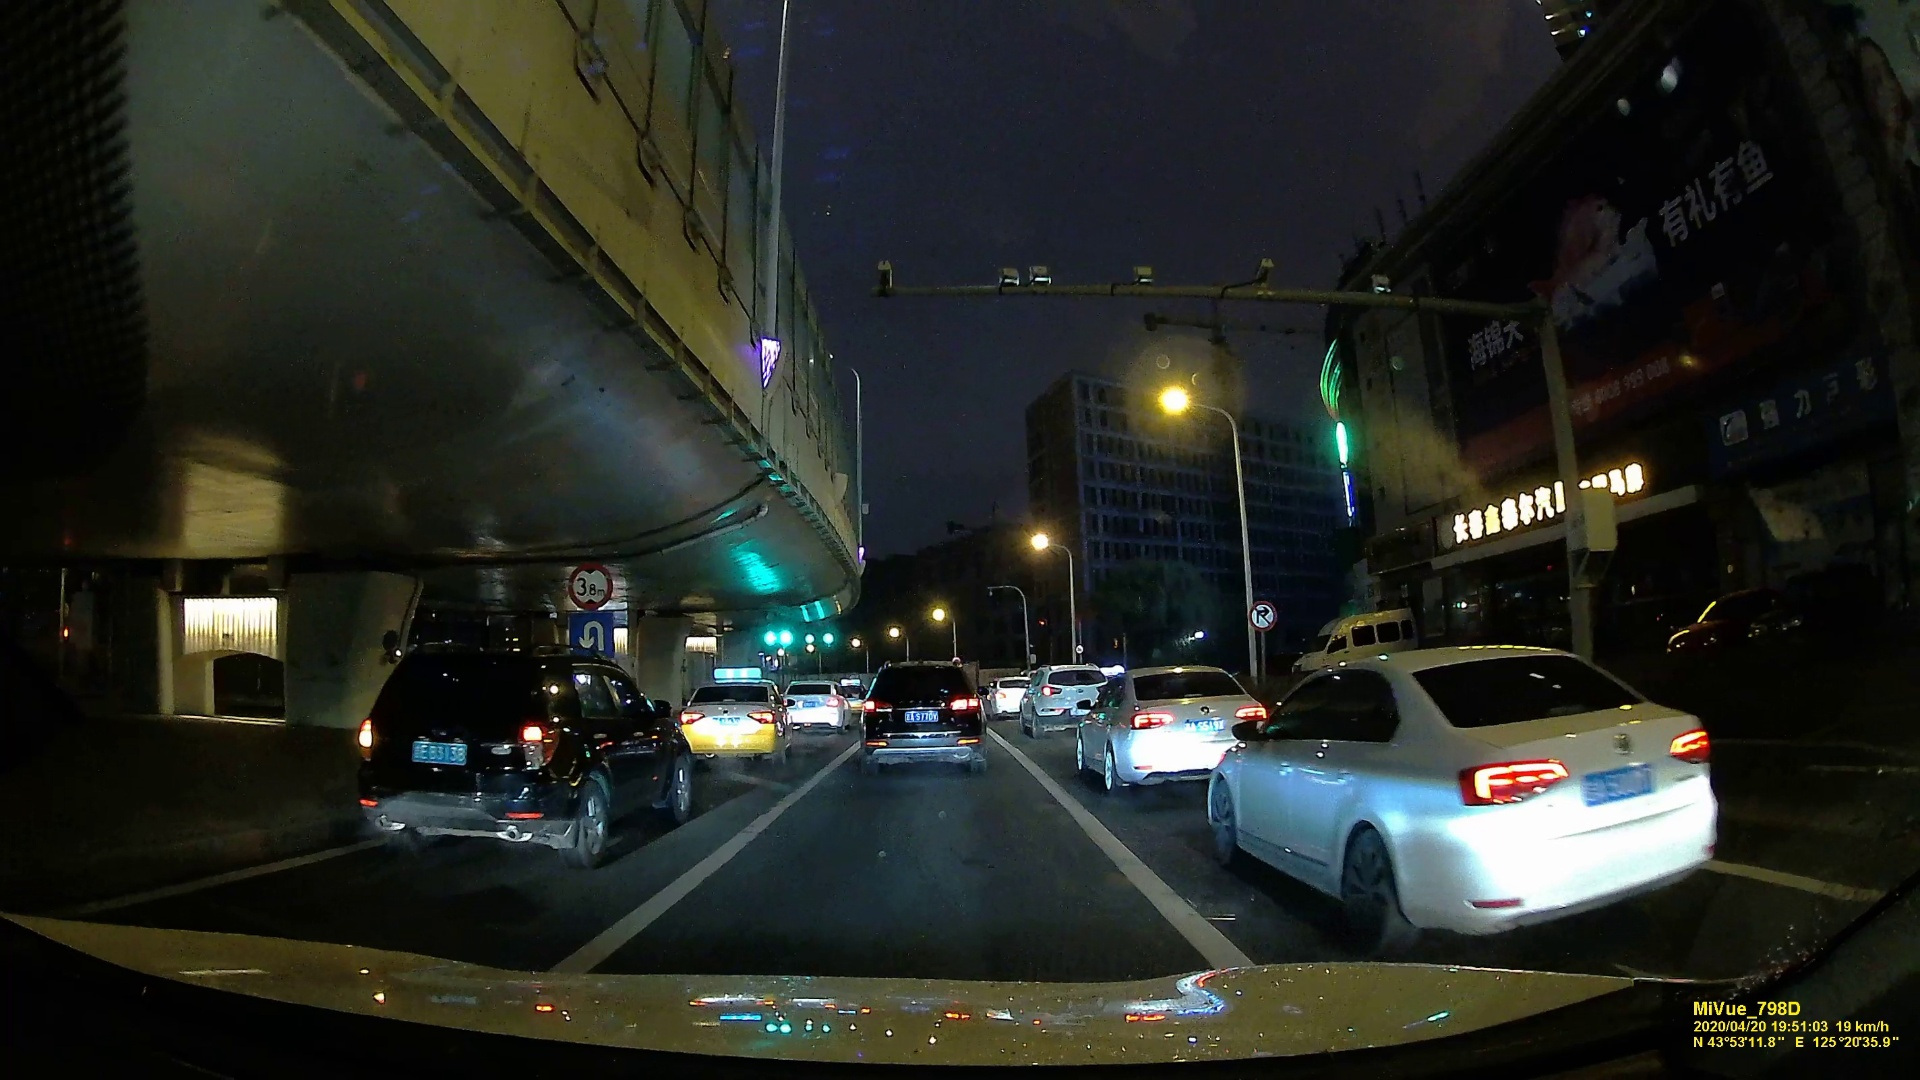minibus: (1296, 608, 1414, 670)
traffic_sign: (568, 611, 615, 654), (570, 564, 605, 607), (1251, 600, 1276, 632), (778, 616, 795, 649), (762, 615, 779, 647)
vehicle: (1217, 640, 1737, 949), (352, 662, 682, 878), (1077, 662, 1261, 793), (858, 655, 988, 773), (679, 680, 790, 762), (1021, 662, 1106, 732), (783, 683, 851, 732)
